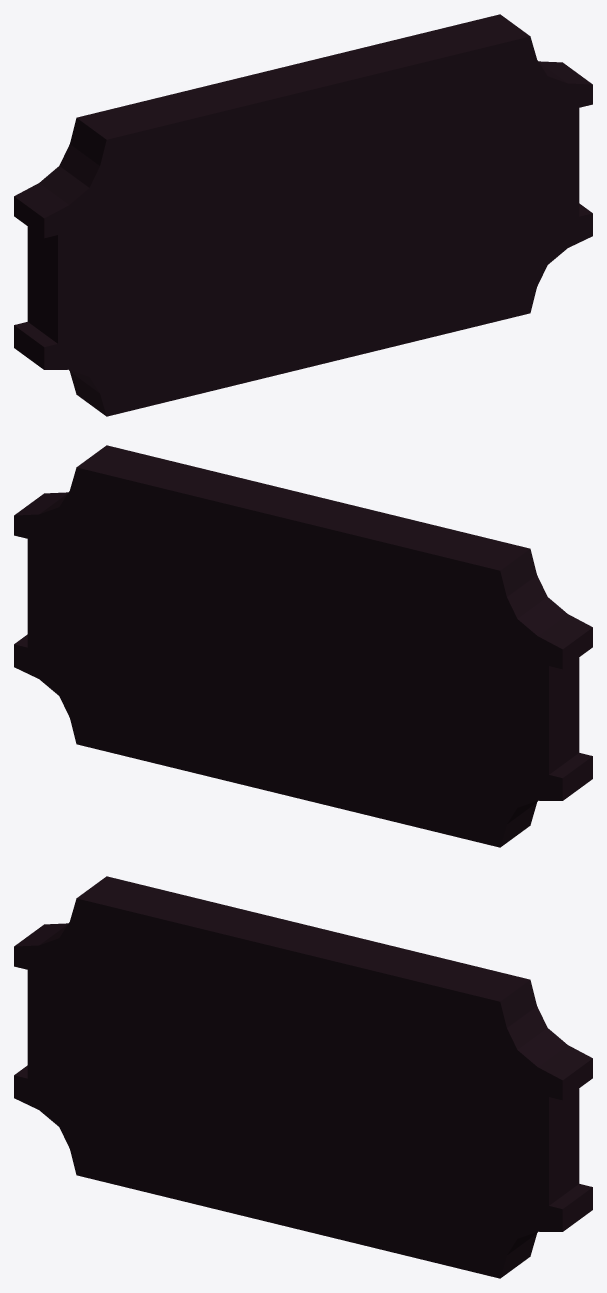
The model's file is PushblockShadow_Short_01.fbx.
3 views of the same model, one above another, from view 1: azimuth 30°, elevation 25°; view 2: azimuth 150°, elevation 25°; view 3: azimuth 330°, elevation 25° (orthographic).
Parts seen in each view (by area): view 1: PushblockShadow_Short_01; view 2: PushblockShadow_Short_01; view 3: PushblockShadow_Short_01.
Boxes of the visible parts, bbox=[...] form: PushblockShadow_Short_01: bbox=[14, 14, 592, 416]; PushblockShadow_Short_01: bbox=[14, 445, 592, 847]; PushblockShadow_Short_01: bbox=[14, 876, 592, 1278].
Bounding box in the file's own units: 322 × 155 × 30.67.
